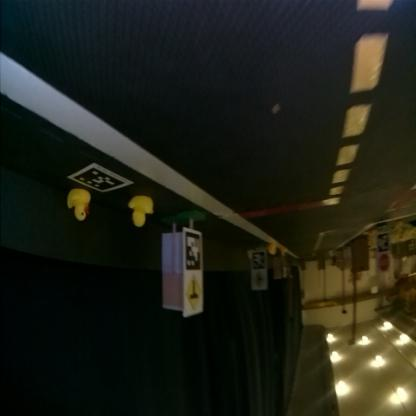Duckie: (70, 190, 92, 221), (130, 198, 152, 228), (270, 247, 277, 254), (282, 248, 288, 256)
Intersection sign: (185, 282, 203, 312), (252, 272, 265, 286)
QR code: (68, 164, 134, 193), (186, 233, 203, 271), (251, 251, 266, 267), (378, 233, 390, 251)
Stop sign: (378, 256, 392, 272)
